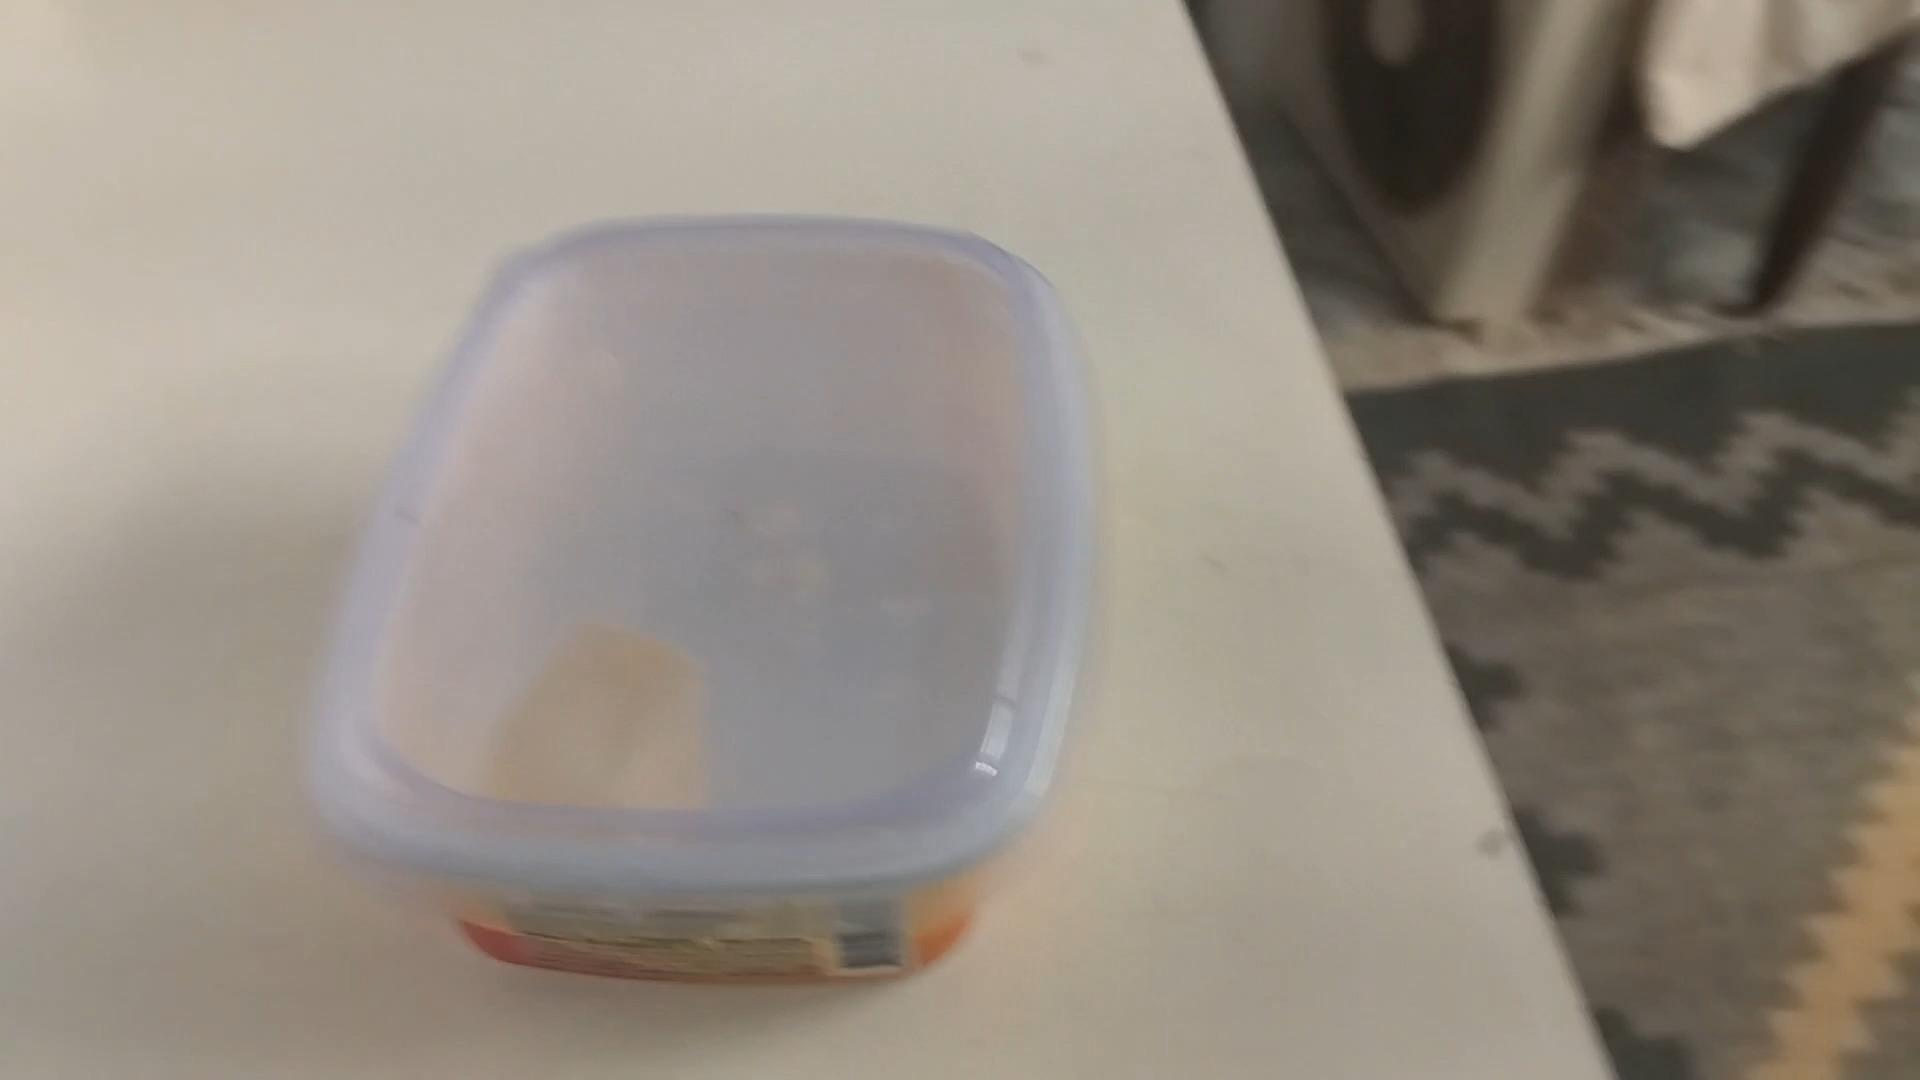butter: (309, 220, 1087, 989)
